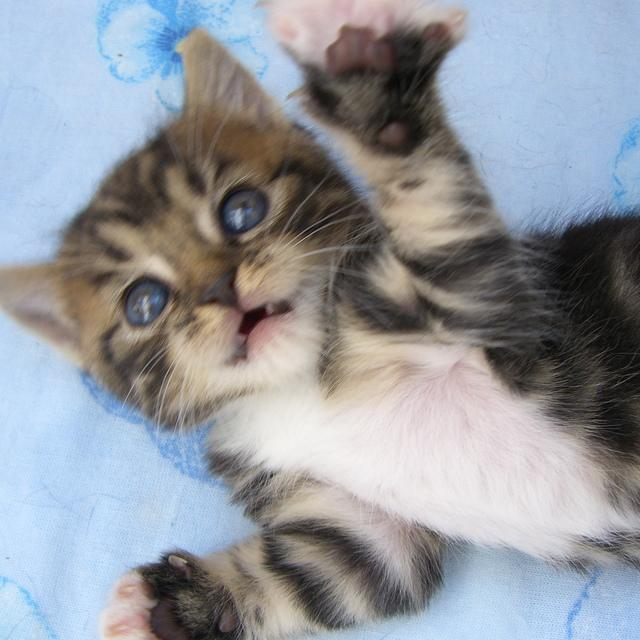animals: (0, 34, 308, 366)
